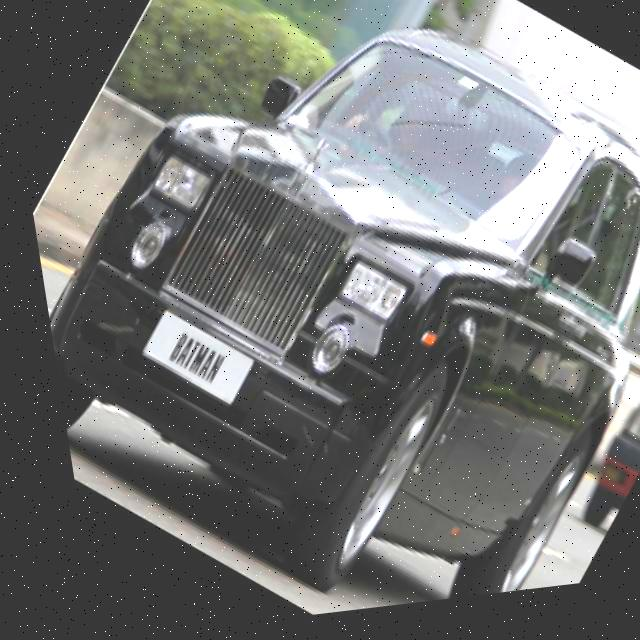license_plate: (124, 302, 247, 413)
